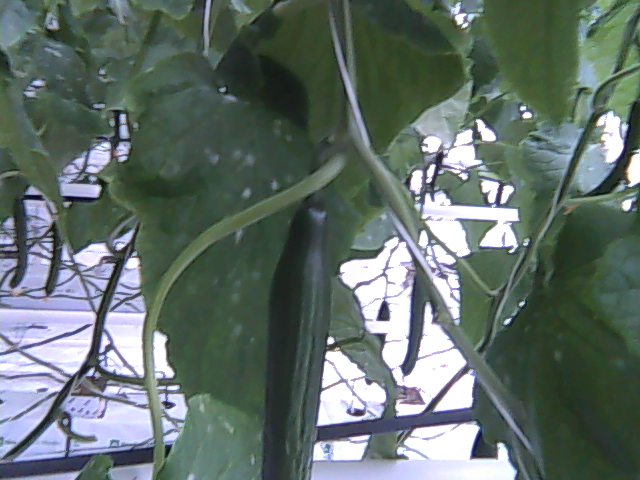concombre: (260, 184, 338, 480)
